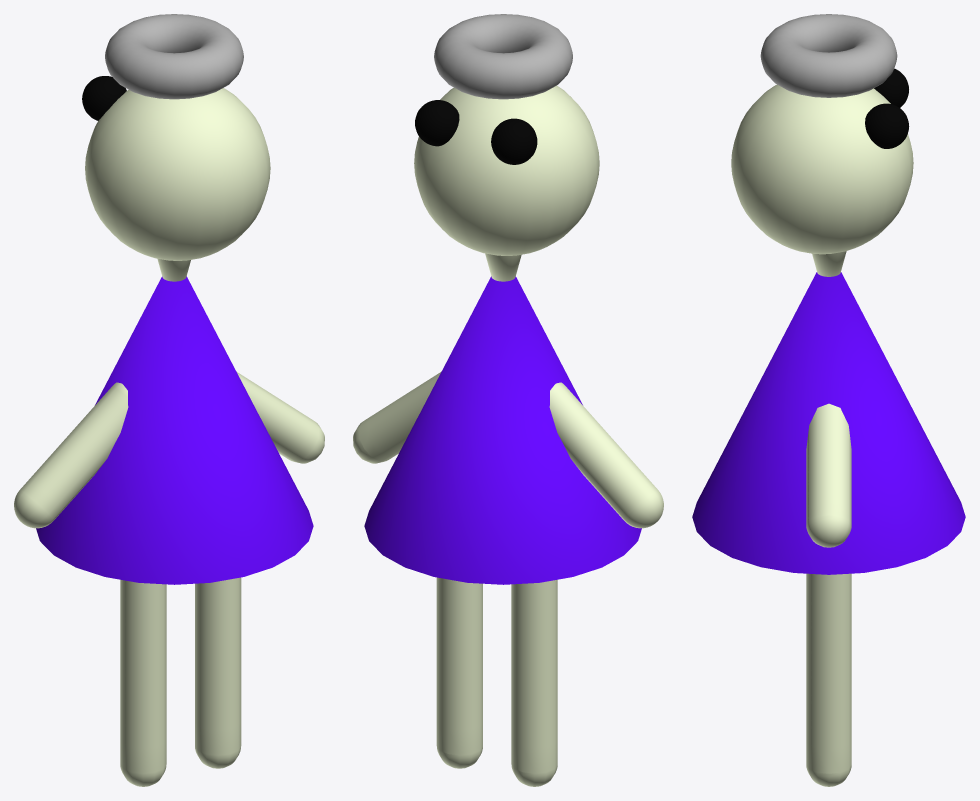
Rendered from custom.obj.
The picture shows the model from 3 angles, left to right: view 1: azimuth 30°, elevation 25°; view 2: azimuth 150°, elevation 25°; view 3: azimuth 270°, elevation 25°; orthographic projection.
Parts seen in each view (by area): view 1: Cylinder1, Sphere, Torus, Capsule, Capsule1, Capsule3, Capsule2, Sphere1, Cylinder; view 2: Cylinder1, Sphere, Torus, Capsule, Capsule1, Capsule3, Capsule2, Sphere1, Sphere2, Cylinder; view 3: Cylinder1, Sphere, Capsule1, Torus, Capsule2, Sphere2, Sphere1, Cylinder.
Boxes of the visible parts, box(x1,y1,x2,y2) form: Cylinder1: box(36, 276, 313, 584); Sphere: box(85, 88, 270, 260); Torus: box(105, 14, 243, 99); Capsule: box(120, 579, 166, 786); Capsule1: box(195, 577, 241, 768); Capsule3: box(14, 382, 128, 528); Capsule2: box(237, 372, 324, 463); Sphere1: box(82, 76, 126, 120); Cylinder: box(157, 258, 190, 281); Cylinder1: box(364, 276, 641, 584); Sphere: box(414, 85, 599, 255); Torus: box(434, 14, 572, 99); Capsule: box(511, 579, 557, 786); Capsule1: box(436, 577, 482, 768); Capsule3: box(549, 382, 663, 528); Capsule2: box(353, 372, 440, 463); Sphere1: box(491, 118, 537, 164); Sphere2: box(415, 100, 459, 146); Cylinder: box(485, 253, 521, 281); Cylinder1: box(692, 272, 965, 574); Sphere: box(731, 84, 913, 254); Capsule1: box(806, 573, 851, 786); Torus: box(760, 14, 897, 97); Capsule2: box(806, 403, 851, 547); Sphere2: box(865, 103, 909, 148); Sphere1: box(874, 68, 908, 107); Cylinder: box(812, 251, 846, 276).
Bounding box in the file's own units: 1.52 × 3.53 × 1.2.
